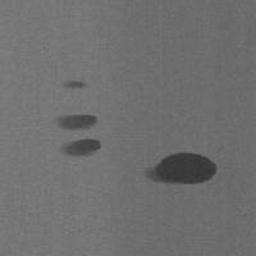Oil spot: (142, 151, 220, 186), (59, 137, 104, 159), (54, 113, 100, 132), (59, 79, 88, 91)
